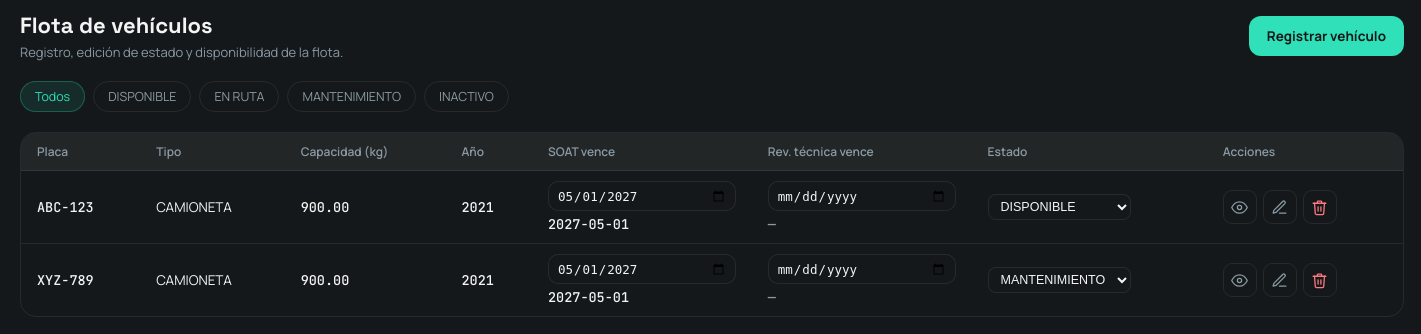
Flota: filtros, estado, documentos y errores › el filtro por estado deja solo los vehículos de ese estado
Expected: the text "ABC-123" is shown, [21,170,140,244]
Expected: the text "XYZ-789" is shown, [21,244,140,316]
What coordinates should you click on to do the following:
click the button "MANTENIMIENTO"
I would click on:
 (352, 96)
Its box is [287,81,416,112].
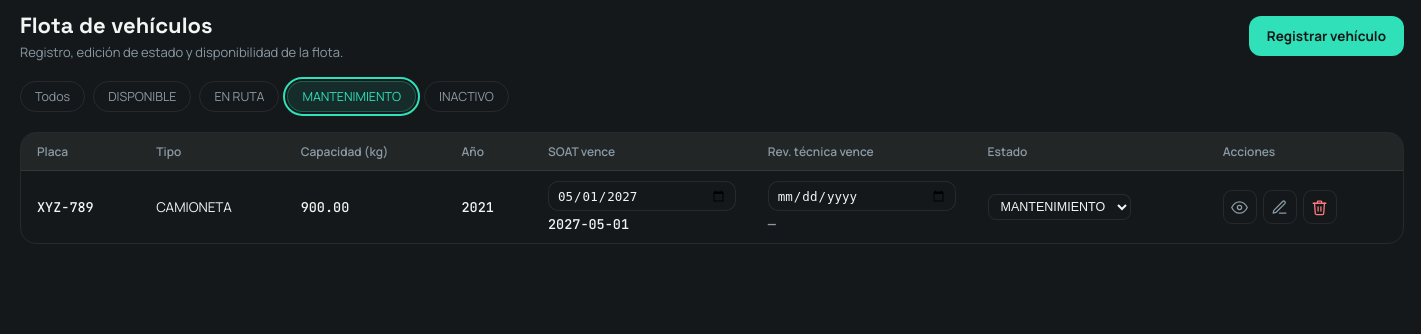
Expected: the text "XYZ-789" is shown, [21,170,140,243]
Result: the text "ABC-123" is gone
What coordinates should you click on to do the following:
click the button "Todos"
I would click on:
 (53, 96)
Its box is [20,81,85,112].
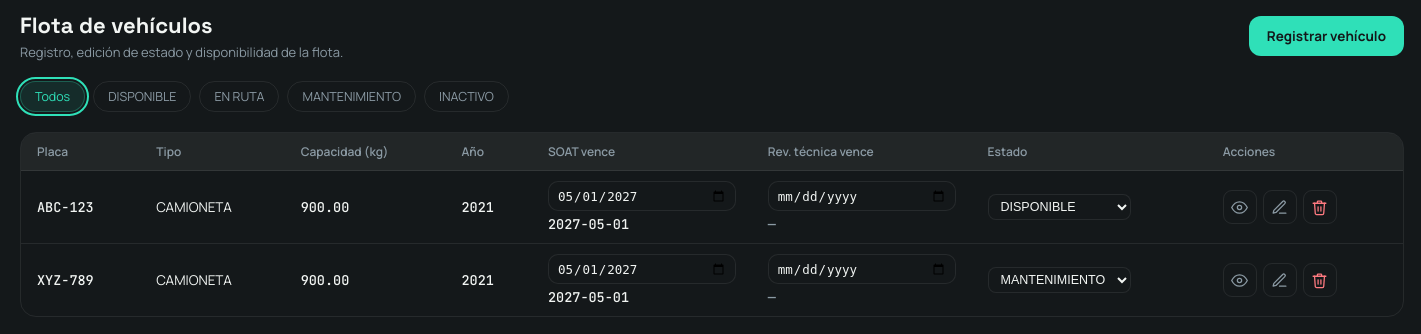
Result: the text "ABC-123" is shown at [21,170,140,244]
